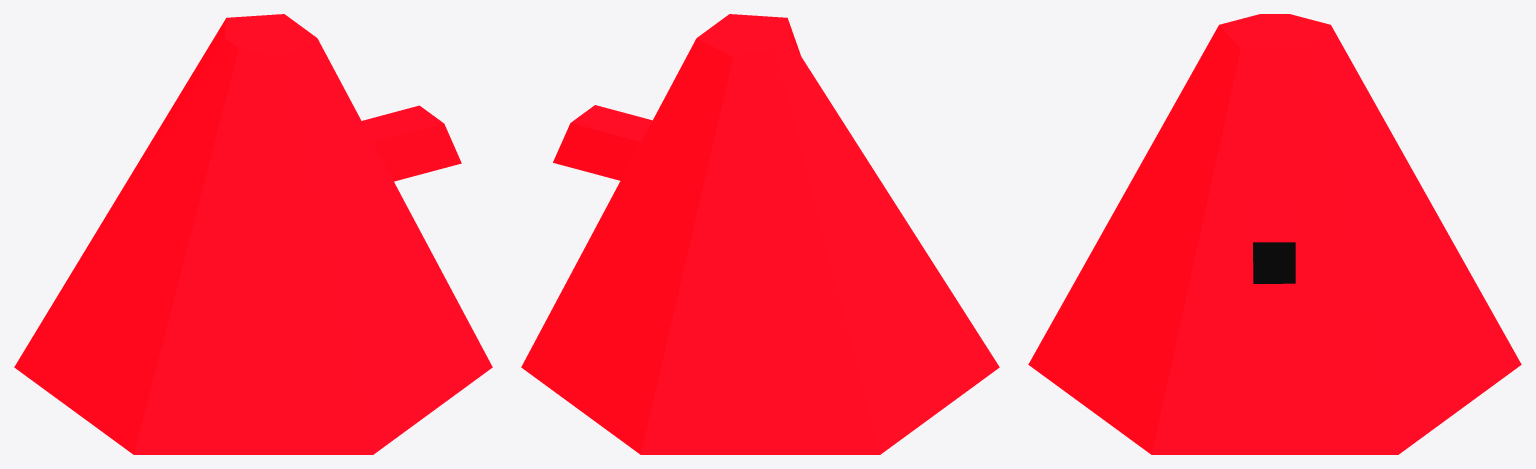
Rendered from enemy.fbx.
3 renders of one model, left to right at view 1: azimuth 30°, elevation 25°; view 2: azimuth 150°, elevation 25°; view 3: azimuth 270°, elevation 25°, orthographic. The views are drawn at different scales.
Visible parts, largest first — view 1: enemy; view 2: enemy; view 3: enemy.
Boxes of the visible parts, x1,y1,x2,y2 form: enemy: [14, 14, 492, 454]; enemy: [521, 14, 999, 454]; enemy: [1028, 14, 1521, 454].
Size of the model in its own units: 1.81 by 1.52 by 2.
